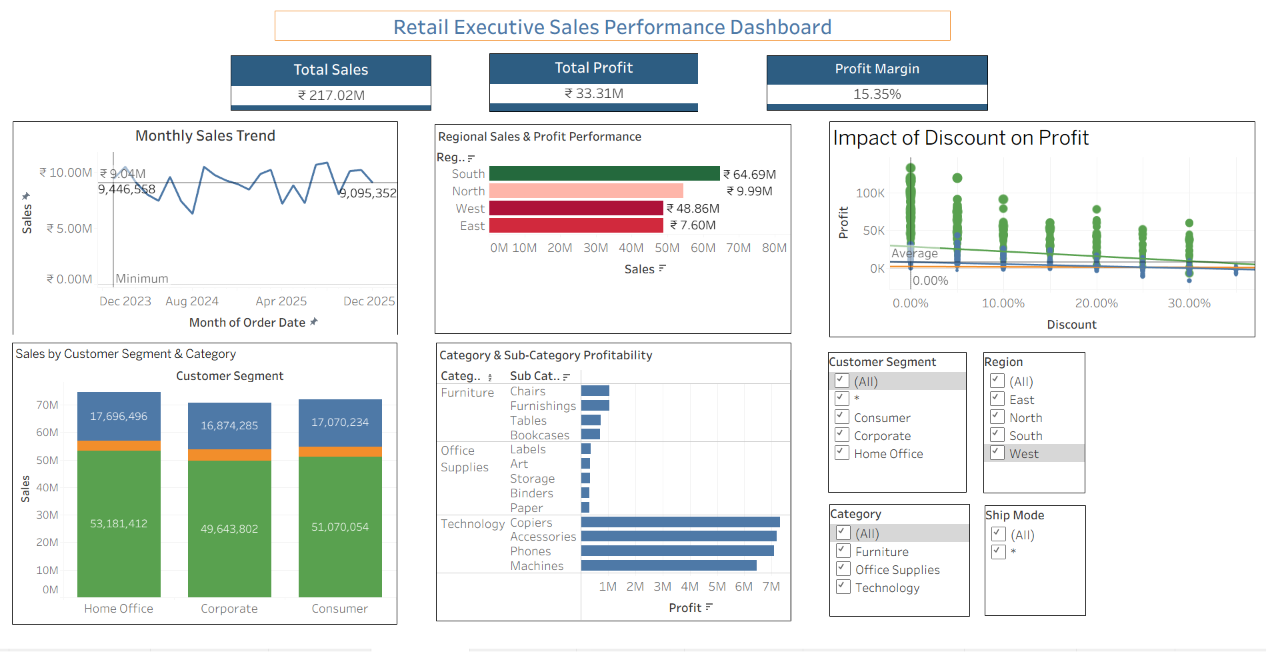

What the dashboard file says about the page in this screenshot:
{"tool":"tableau","page":{"name":"Dashboard 1","canvas":[1000,1000],"units":"permille","ordinal":0},"visuals":[{"type":"text","box":[221.2,18.3,528.2,46.5]},{"type":"worksheet","title":"KPI - Total Profit","mark":"Automatic","box":[388.8,84.4,163.5,90.5]},{"type":"worksheet","title":"KPI - Total Sales","mark":"Text","box":[186.9,86.8,156.8,85.6]},{"type":"worksheet","title":"KPI - Profit Margin","mark":"Automatic","box":[605.8,86.8,173.1,85.6]},{"type":"worksheet","title":"Sales Trend View","mark":"Line","rows":["sales"],"cols":["order_date"],"box":[16.8,188.3,301.1,328.9]},{"type":"worksheet","title":"Discount vs. Profit View","mark":"Circle","rows":["profit"],"cols":["discount"],"box":[654.5,188.3,332.9,332.5]},{"type":"worksheet","title":"Regional Performance View","mark":"Automatic","rows":["region"],"cols":["sales"],"box":[346.2,193.2,278.9,322.7]},{"type":"worksheet","title":"Customer Segment View","mark":"Automatic","rows":["sales"],"cols":["customer_segment"],"box":[16.2,529.3,301.1,434]},{"type":"worksheet","title":"Category Profitability View","mark":"Automatic","rows":["category","sub_category"],"cols":["profit"],"box":[347.4,529.3,277.6,429.1]},{"type":"filter","title":"Customer Segment View","param":"[federated.17eydmc0iiu26u0zjniod1c91s0a].[attr:customer_segment:nk]","box":[653.9,544,108.2,216.4]},{"type":"filter","title":"Sales Trend View","param":"[federated.17eydmc0iiu26u0zjniod1c91s0a].[none:region:nk]","box":[775.2,544,79.9,217.6]},{"type":"filter","title":"Category Profitability View","param":"[federated.17eydmc0iiu26u0zjniod1c91s0a].[none:category:nk]","box":[654.5,777.5,110,173.6]},{"type":"filter","title":"Category Profitability View","param":"[federated.17eydmc0iiu26u0zjniod1c91s0a].[attr:ship_mode:nk]","box":[775.8,780,79.3,169.9]}]}

Visuals, with their boxes on the dashboard's canvas, which has no fixed pixel size, in thousandths of its width and height (x1, y1, x2, y2). These are canvas units, not pixel positions in the 1267x652 screenshot, which may show the page scaled, cropped or inside an application window:
text: rect(221, 18, 749, 65)
"KPI - Total Profit" worksheet: rect(389, 84, 552, 175)
"KPI - Total Sales" worksheet (Text marks): rect(187, 87, 344, 172)
"KPI - Profit Margin" worksheet: rect(606, 87, 779, 172)
"Sales Trend View" worksheet (Line marks): rect(17, 188, 318, 517)
"Discount vs. Profit View" worksheet (Circle marks): rect(654, 188, 987, 521)
"Regional Performance View" worksheet: rect(346, 193, 625, 516)
"Customer Segment View" worksheet: rect(16, 529, 317, 963)
"Category Profitability View" worksheet: rect(347, 529, 625, 958)
"Customer Segment View" filter: rect(654, 544, 762, 760)
"Sales Trend View" filter: rect(775, 544, 855, 762)
"Category Profitability View" filter: rect(654, 778, 764, 951)
"Category Profitability View" filter: rect(776, 780, 855, 950)
